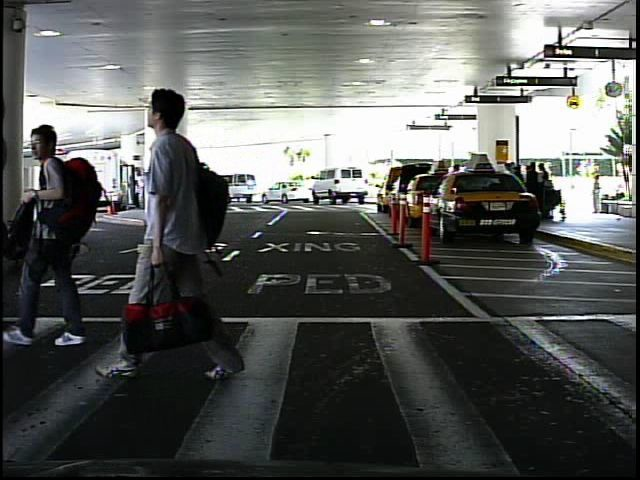person: (113, 81, 240, 397), (16, 115, 105, 353), (51, 171, 70, 220), (588, 173, 607, 219)
